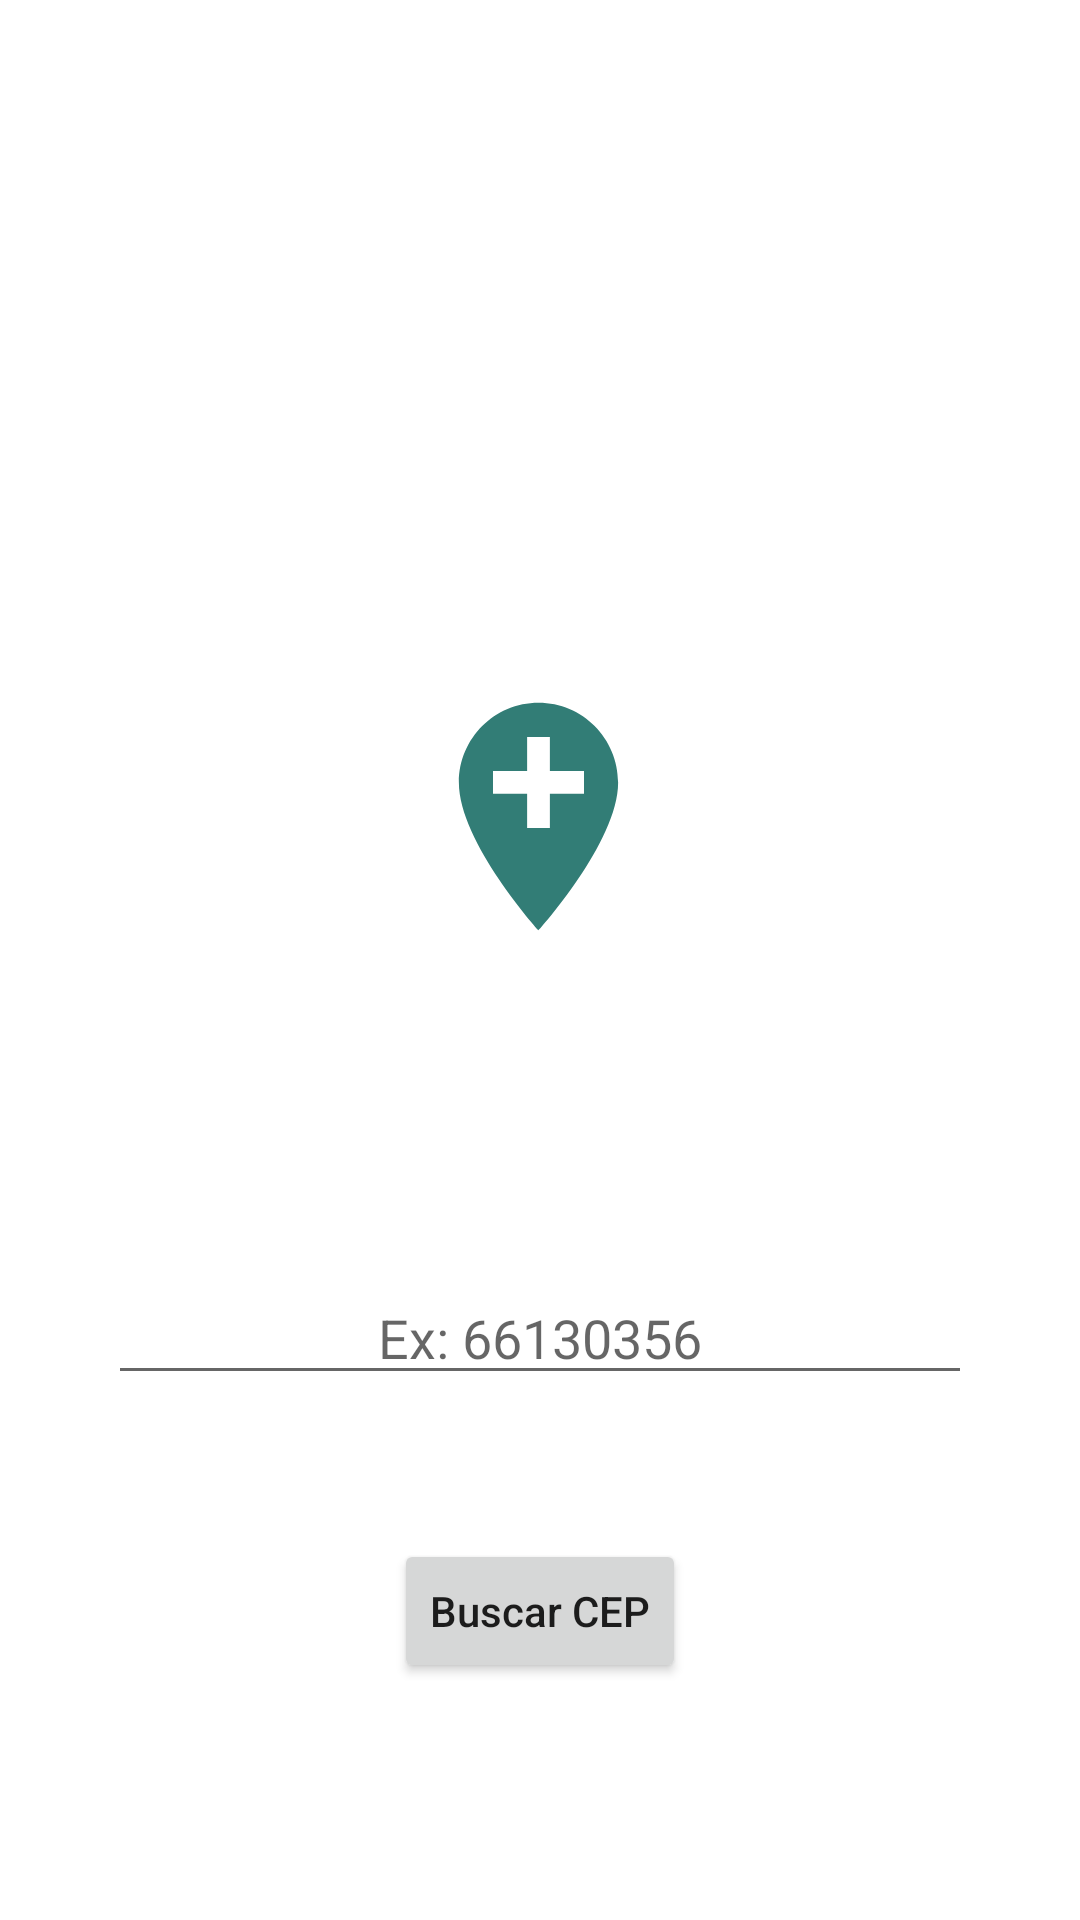

Named icons in this screenshot (1080px×1920px) and their centers, point (x, y):
add location: point (538, 816)
